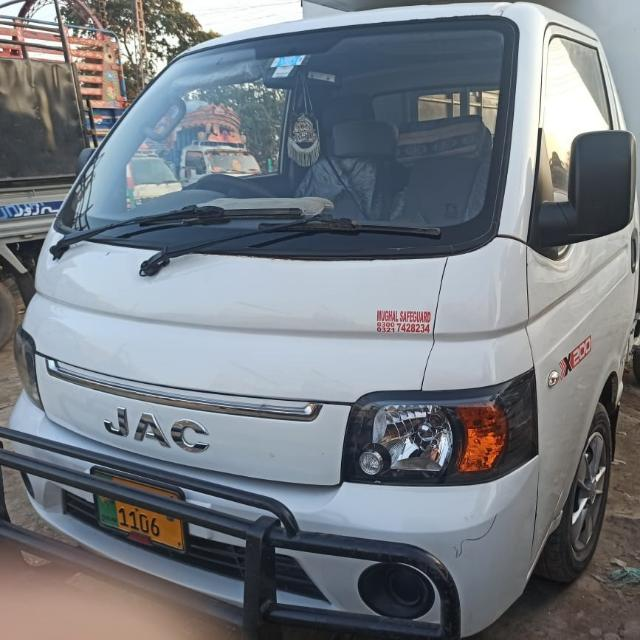plate: (78, 461, 198, 551)
